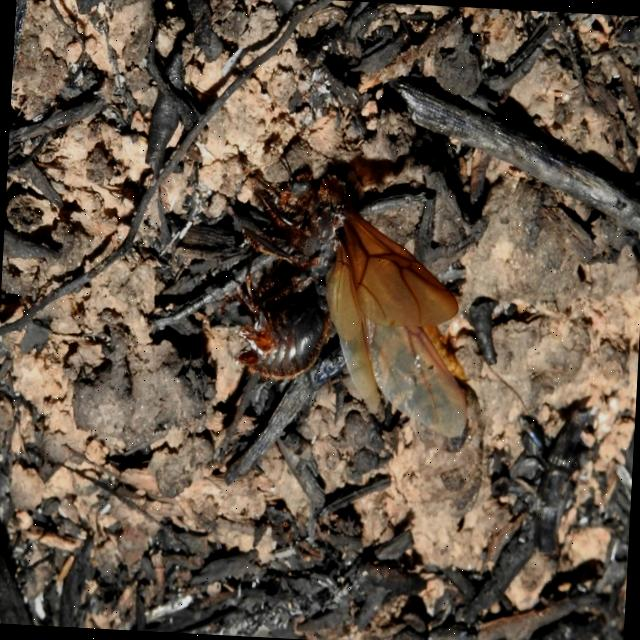Dead-Male-Alate: (217, 143, 481, 439)
